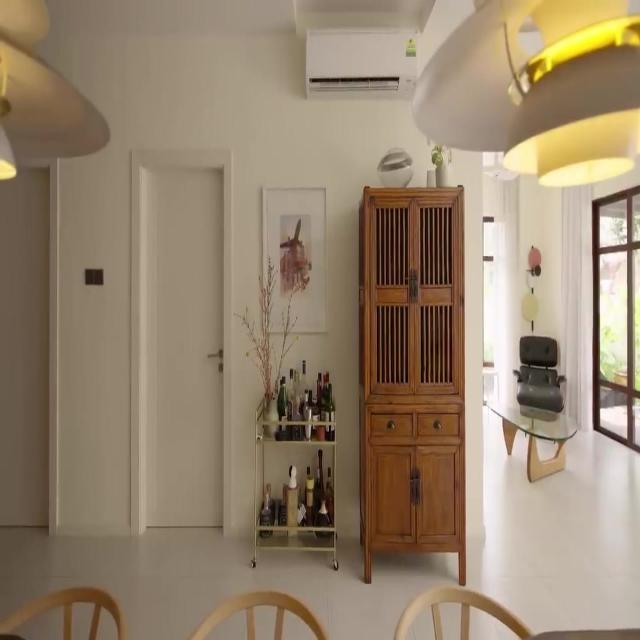door: (138, 155, 224, 530)
obstacle: (358, 185, 466, 586), (251, 394, 338, 570), (484, 399, 578, 482), (393, 586, 534, 640), (188, 590, 328, 639), (1, 586, 128, 640), (512, 334, 566, 420)
